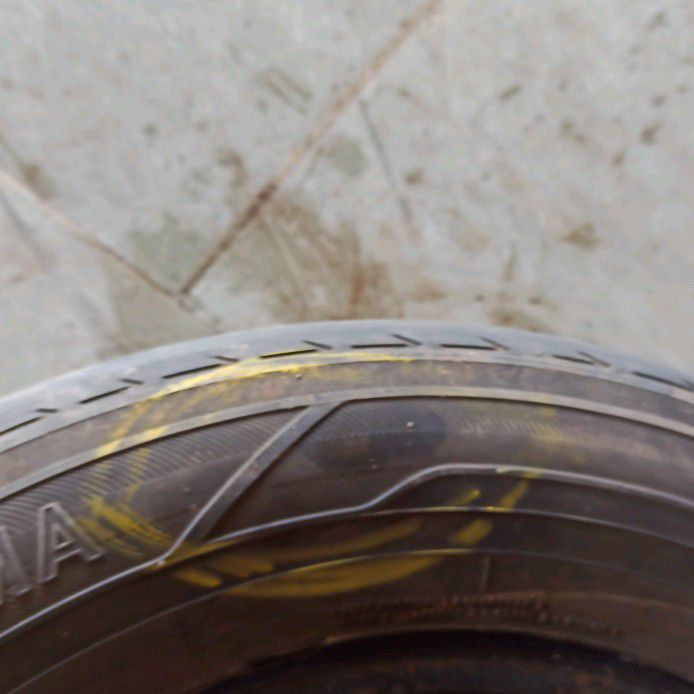CBU: (171, 374, 451, 545)
